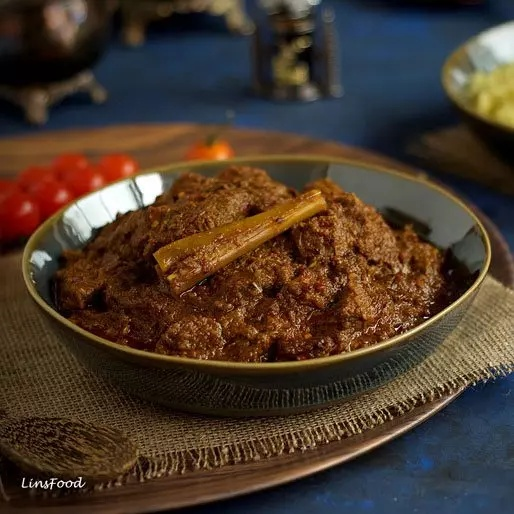rendang: (59, 173, 453, 362)
